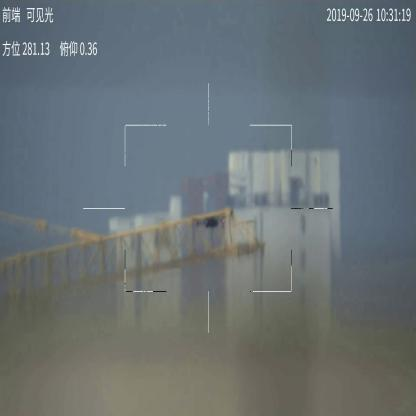uav: (191, 213, 228, 231)
